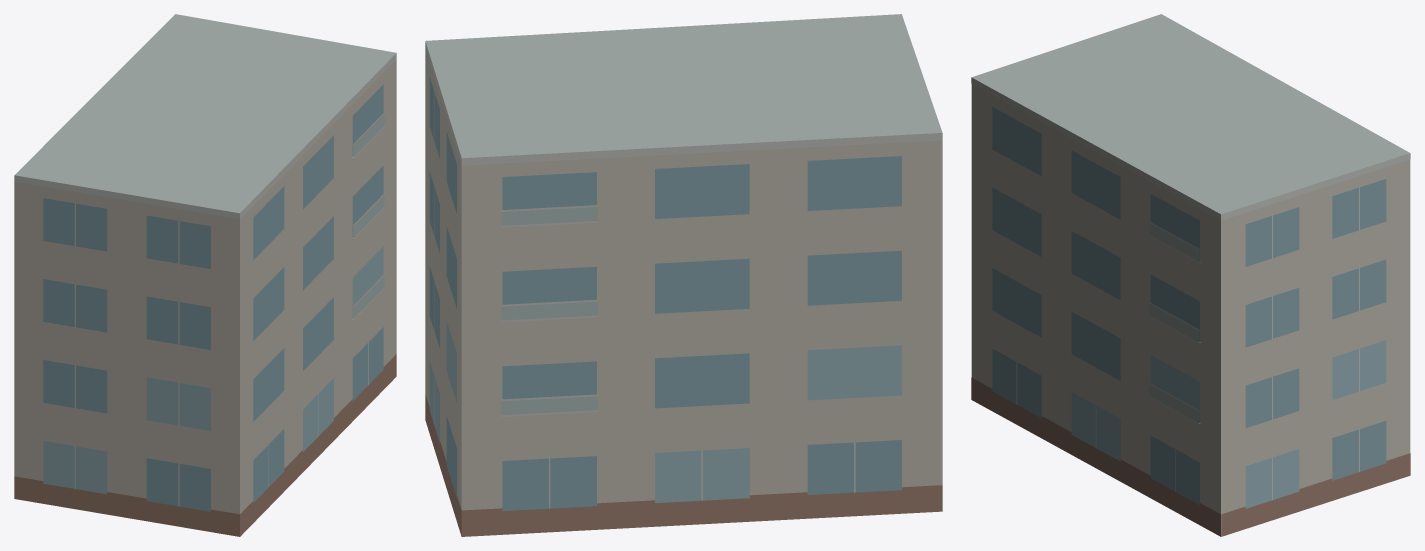
The model's file is survey-upis-32774234.glb.
3 renders of one model, left to right at view 1: azimuth 30°, elevation 25°; view 2: azimuth 150°, elevation 25°; view 3: azimuth 270°, elevation 25°, orthographic. The views are drawn at different scales.
Visible parts, largest first — view 1: survey-upis-32774234.tmp; view 2: survey-upis-32774234.tmp; view 3: survey-upis-32774234.tmp.
Part boxes in pixels (x1,y1,x2,y2): survey-upis-32774234.tmp: [14, 14, 396, 536]; survey-upis-32774234.tmp: [425, 14, 942, 536]; survey-upis-32774234.tmp: [971, 14, 1410, 536].
Bounding box in the file's own units: 16.8 × 12.6 × 15.55.
